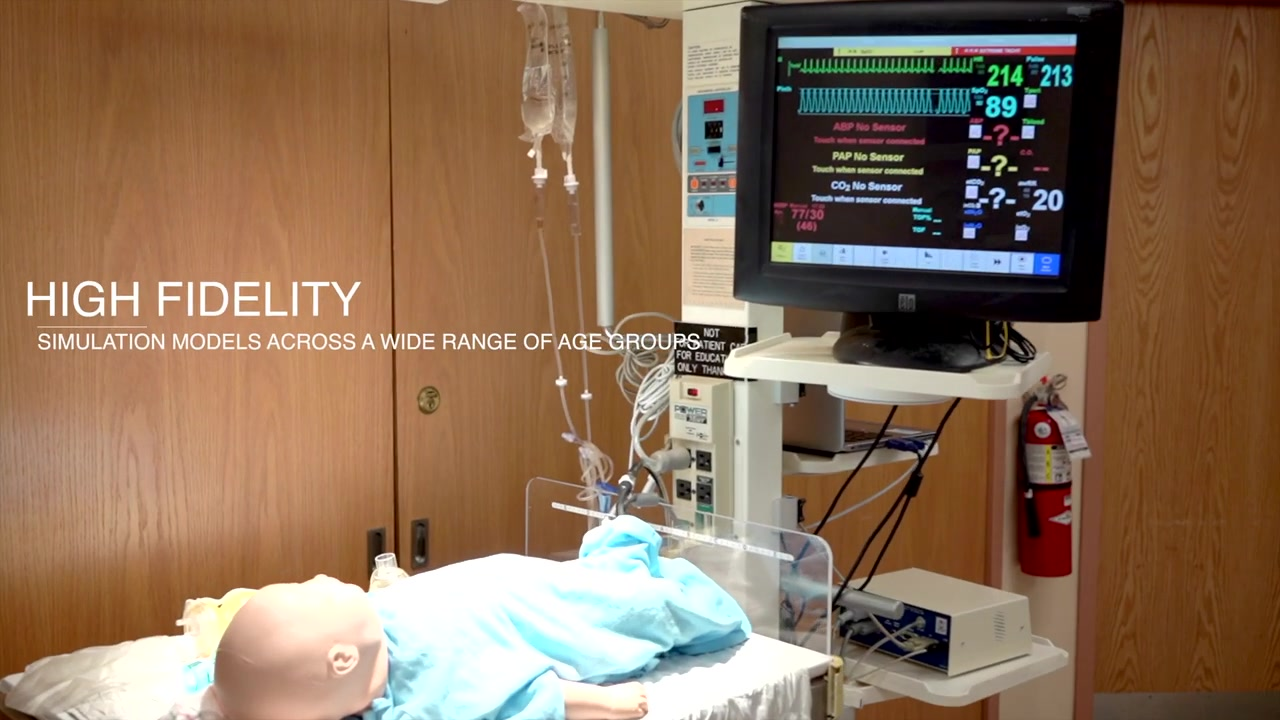bedside_monitor: (737, 1, 1112, 318)
computer: (779, 379, 940, 455)
handle: (410, 517, 431, 569), (366, 527, 385, 581)
hospital_bed: (3, 475, 834, 720)
